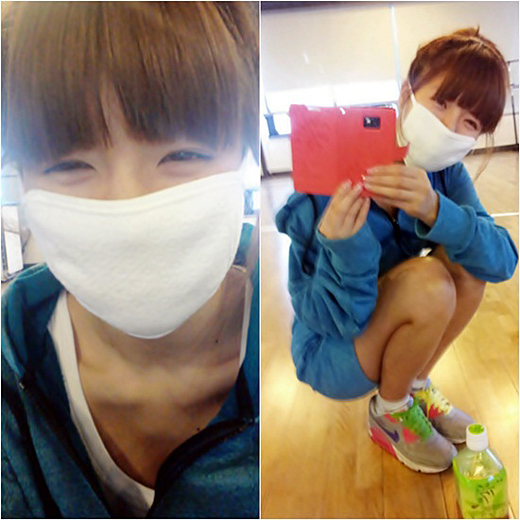mask: (13, 159, 265, 327), (405, 84, 492, 189)
